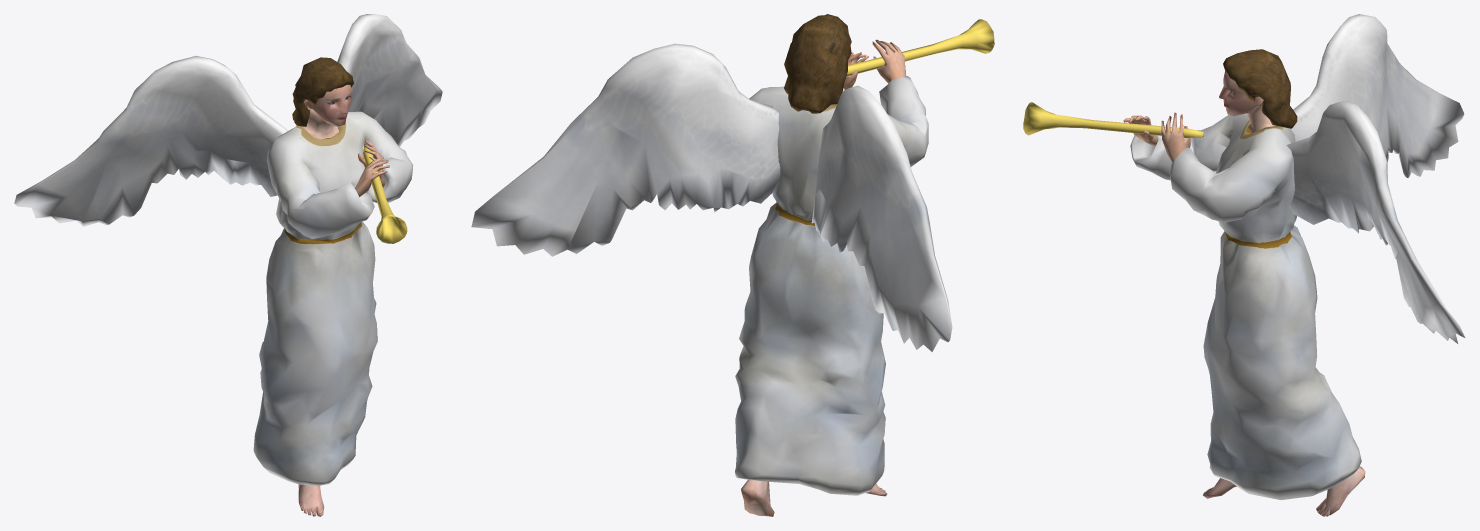
Rendered from angelo_con_tromba.fbx.
The picture shows the model from 3 angles, left to right: view 1: azimuth 30°, elevation 25°; view 2: azimuth 150°, elevation 25°; view 3: azimuth 270°, elevation 25°; orthographic projection. The views are drawn at different scales.
Parts seen in each view (by area): view 1: 12148_angel_horn_v1_L2; view 2: 12148_angel_horn_v1_L2; view 3: 12148_angel_horn_v1_L2.
Part boxes in pixels (x1,y1,x2,y2): 12148_angel_horn_v1_L2: (14,14,442,516); 12148_angel_horn_v1_L2: (471,14,994,516); 12148_angel_horn_v1_L2: (1023,14,1465,516).
Size of the model in its own units: 19175 by 18499 by 16142.
Materials: 8 (7 with a texture image).
